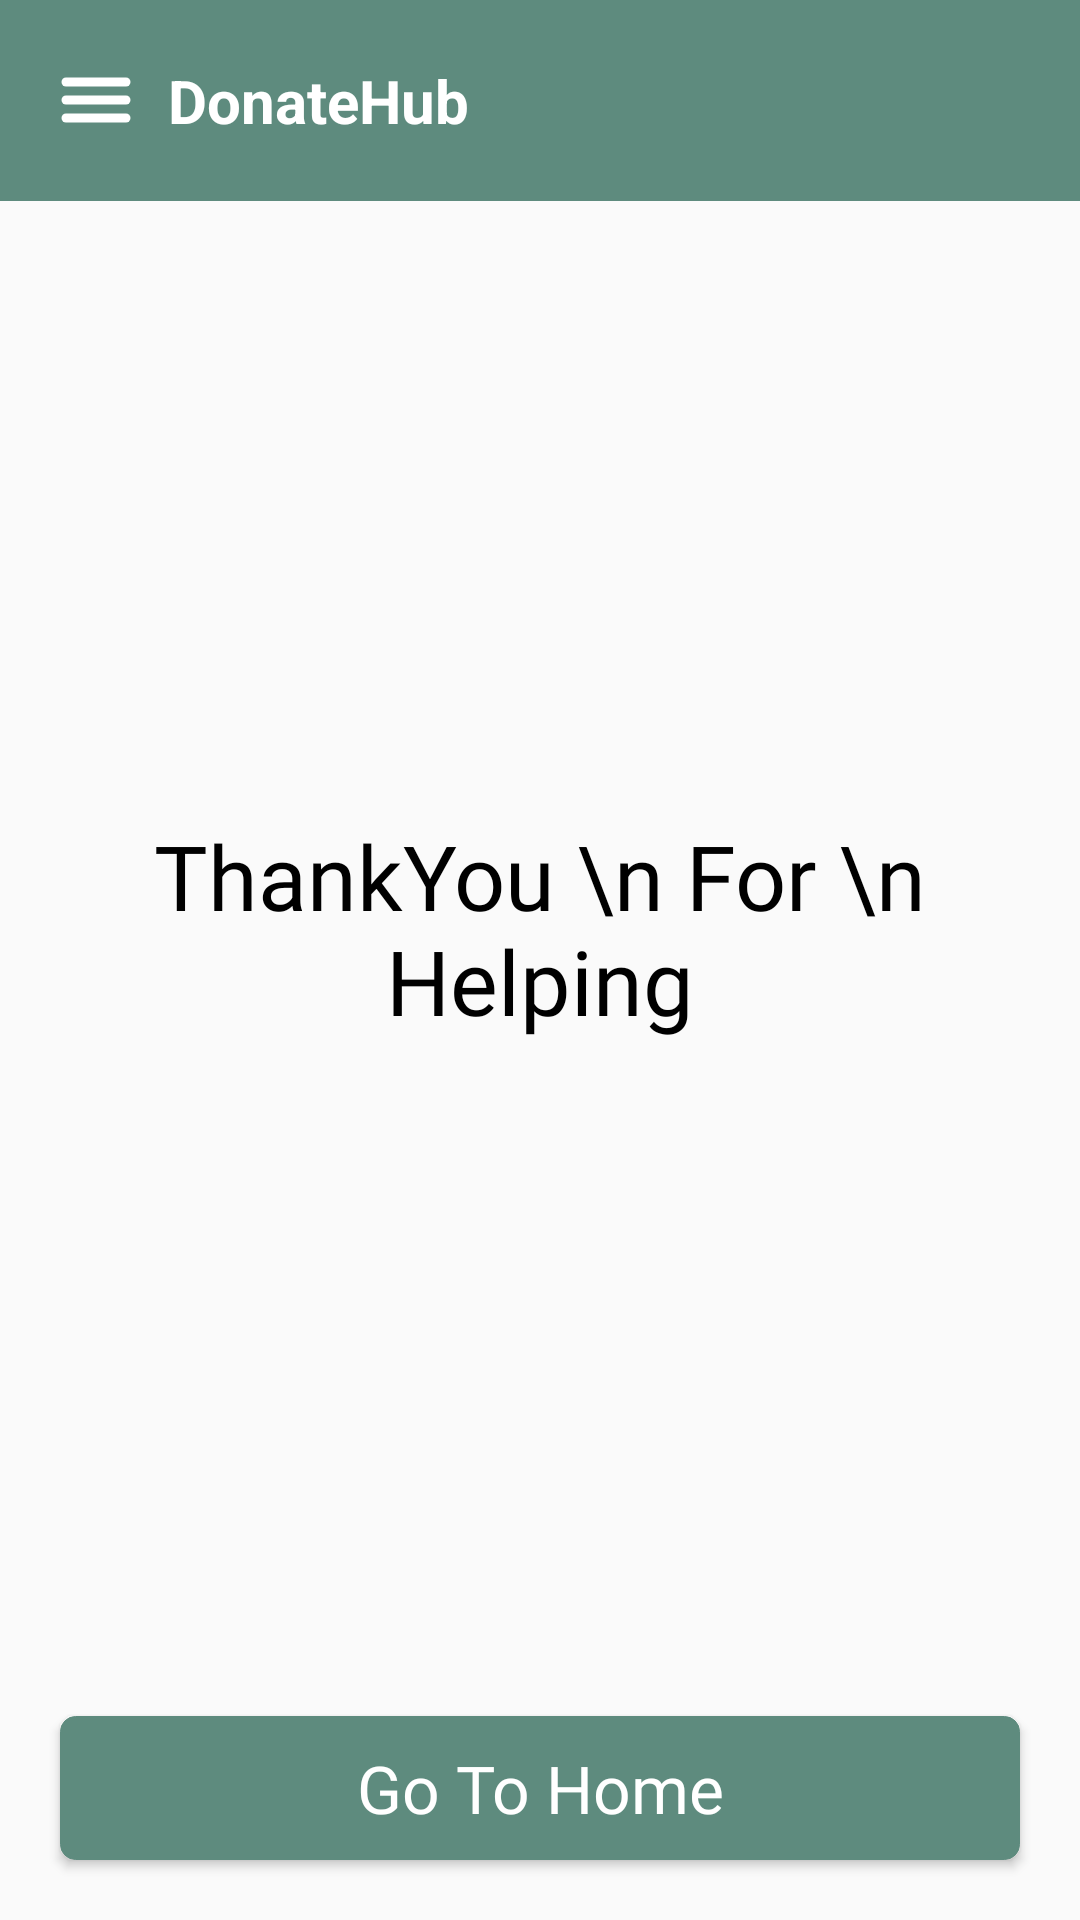

Point at icon controls on the screen. Image size 1080px×1920px, points as point (x, y).
menu: point (96, 100)
